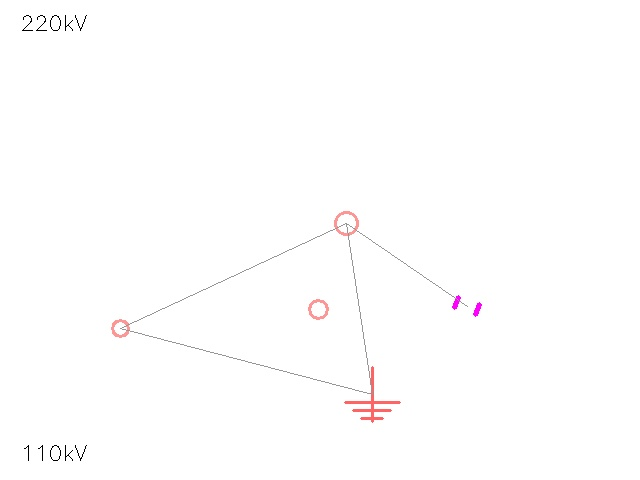capacitor: (449, 288, 485, 324)
disconnect_switch: (103, 311, 137, 345)
feeder_terminal: (324, 201, 368, 245)
ground: (345, 367, 399, 421)
reactor: (299, 290, 337, 328)
